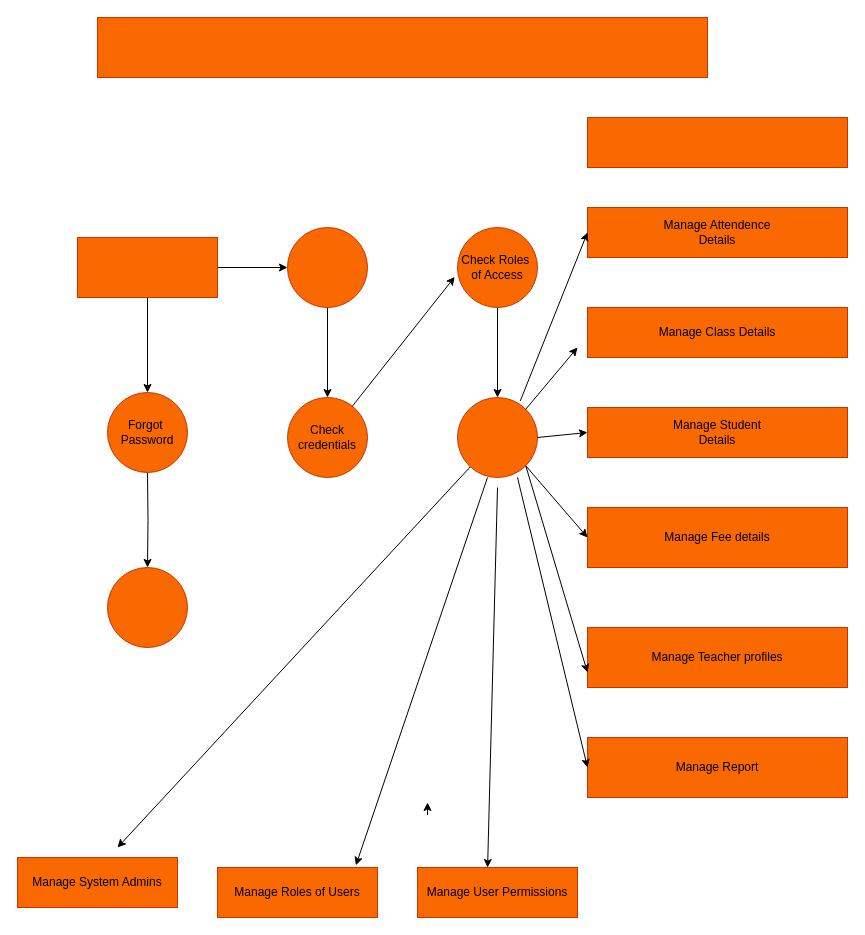
Image size: 865x935. Some labels were removed from this diagram. Here are the shapes that lost their labels. From the top down, the centre of each, then its label:
At pixel 402 47: "Student Information System".
At pixel 717 142: "Manage Timetable Details".
At pixel 147 267: "Admin".
At pixel 327 267: "Login to Systems".
At pixel 497 437: "Manage Modules".
At pixel 147 607: "Send email to User".
